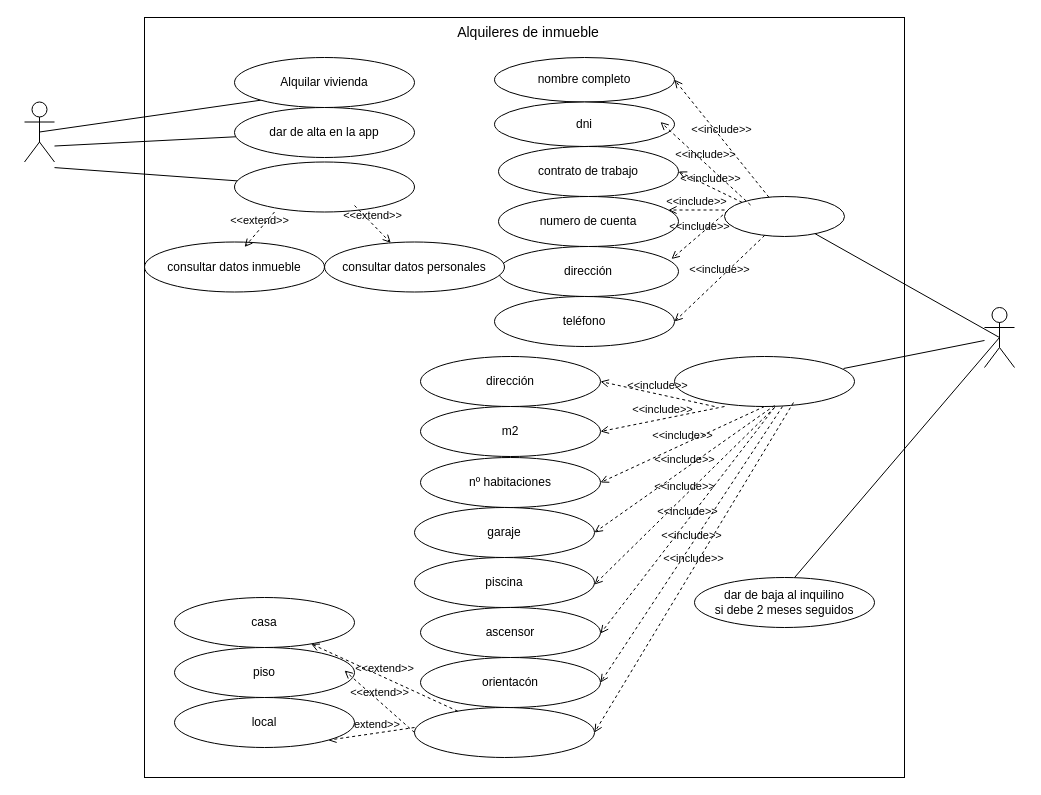
The diagram is 1041 pixels wide and 795 high, and some of its shapes have lost their labels. Here are the shapes that lost their labels. From the top down, the centre of each, then its label:
At [39,131]: "Inquilino".
At [324,186]: "introducir datos en la app".
At [784,216]: "Dar de alta al inquilino".
At [999,337]: "Empresa".
At [764,381]: "dar de alta al inmueble".
At [504,732]: "tipo de inmueble".
